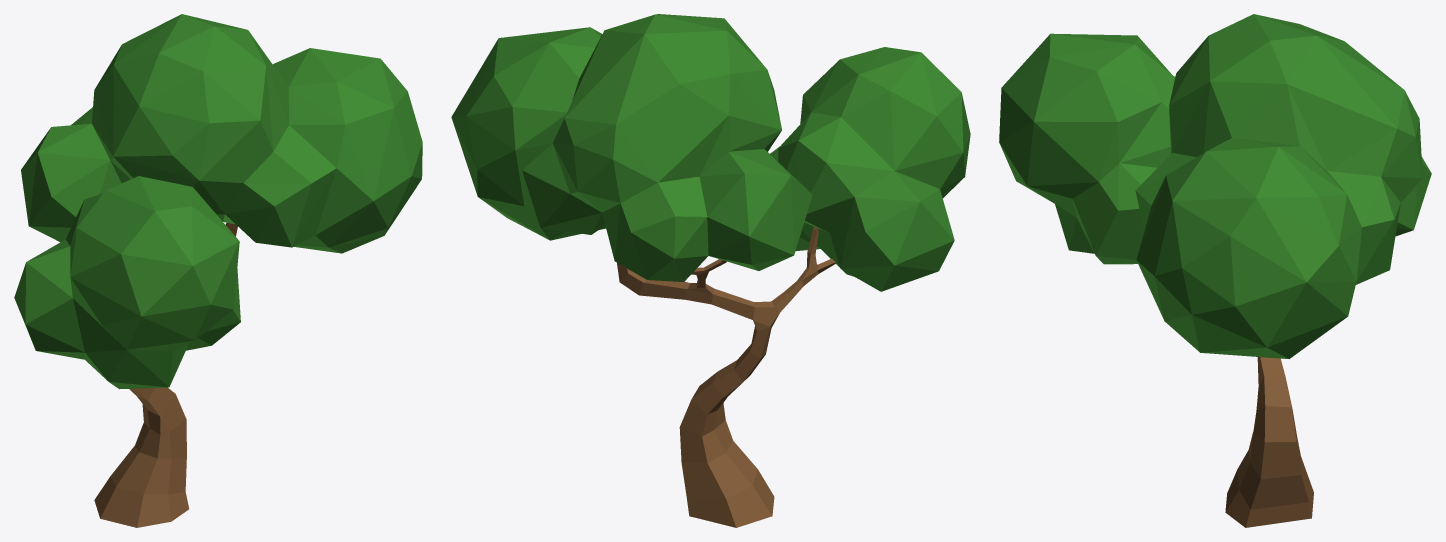
Rendered from tree5.glb.
3 views of the same model, side by side, from view 1: azimuth 30°, elevation 25°; view 2: azimuth 150°, elevation 25°; view 3: azimuth 270°, elevation 25° (orthographic). The views are drawn at different scales.
Visible parts, largest first — view 1: LowPoly Tree 07; view 2: LowPoly Tree 07; view 3: LowPoly Tree 07.
Boxes of the visible parts, x1=… form: LowPoly Tree 07: x1=14, y1=14, x2=422, y2=527; LowPoly Tree 07: x1=451, y1=14, x2=970, y2=527; LowPoly Tree 07: x1=999, y1=14, x2=1431, y2=527.
Bounding box in the file's own units: 4.16 × 4.3 × 3.33.
